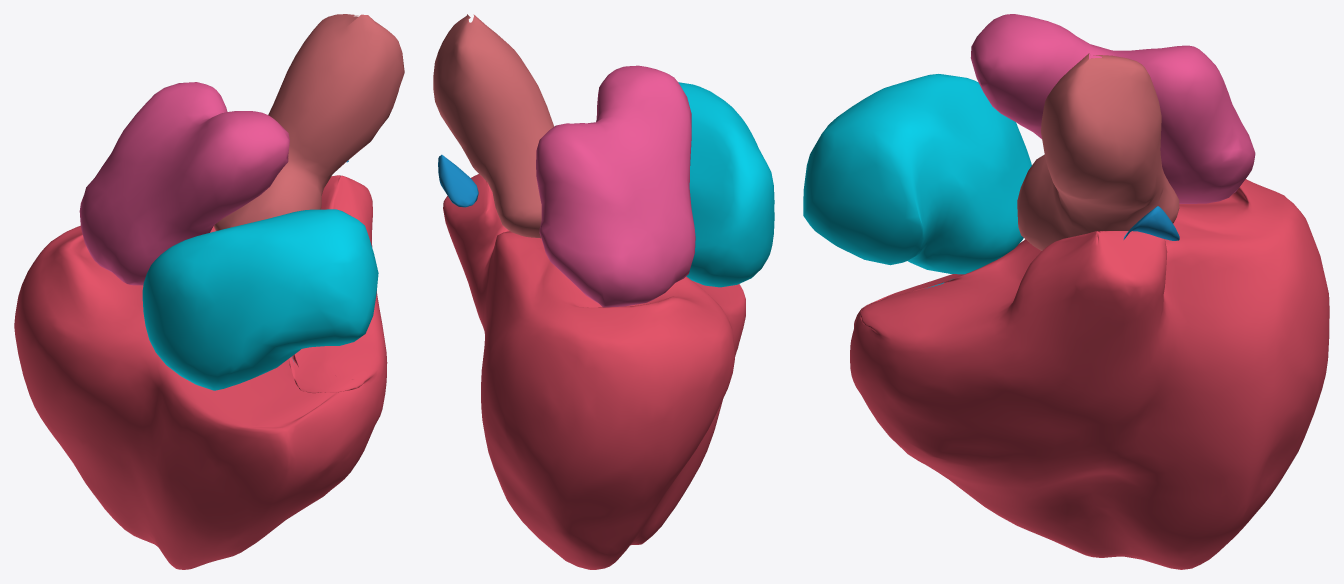
File: frame_21.glb
The picture shows the model from 3 angles, left to right: view 1: azimuth 30°, elevation 25°; view 2: azimuth 150°, elevation 25°; view 3: azimuth 270°, elevation 25°; orthographic projection. The views are drawn at different scales.
Parts seen in each view (by area): view 1: Renderer Node; view 2: Renderer Node; view 3: Renderer Node.
Boxes of the visible parts, left/top/right/bottom form: Renderer Node: left=14, top=14, right=404, bottom=569; Renderer Node: left=433, top=14, right=774, bottom=569; Renderer Node: left=803, top=14, right=1329, bottom=569.
Bounding box in the file's own units: 103 × 154 × 122.
